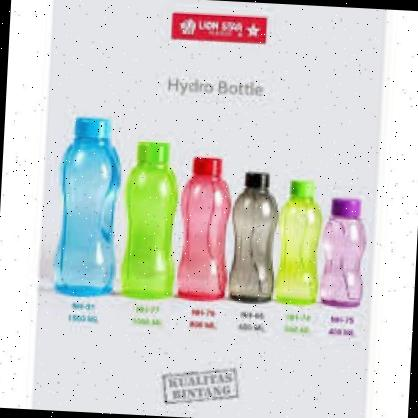bottle: (51, 109, 124, 293), (116, 133, 184, 298), (172, 147, 236, 295), (270, 175, 334, 312), (228, 158, 280, 305), (320, 180, 369, 312)
cap: (71, 113, 113, 143), (134, 138, 173, 164), (327, 194, 364, 218), (190, 154, 225, 177), (242, 168, 271, 188), (289, 178, 316, 196)
